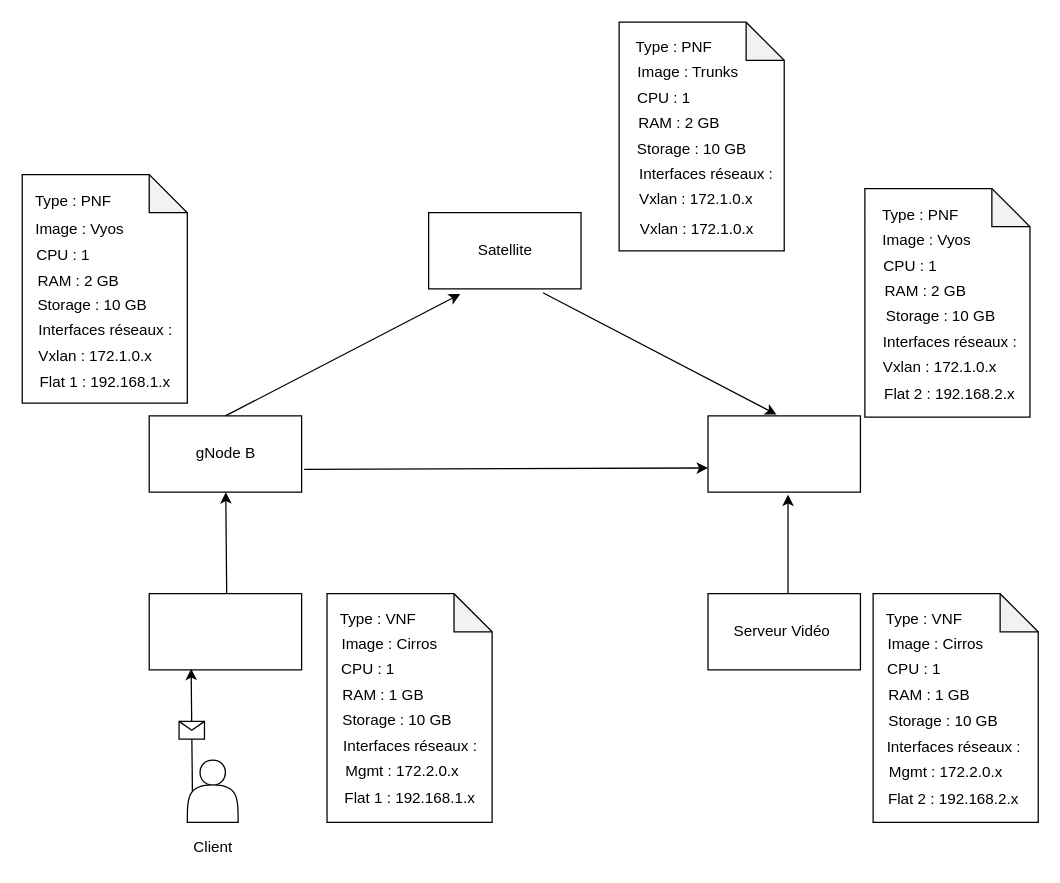
This 1060x883 diagram has some shape labels left out. The shapes that lost their labels are listed below. From the top down, each one's box as (x1, y1, x2, y2) in pixels, then its label:
(707, 415, 860, 492): Core Net
(148, 592, 302, 670): Client Vidéo
